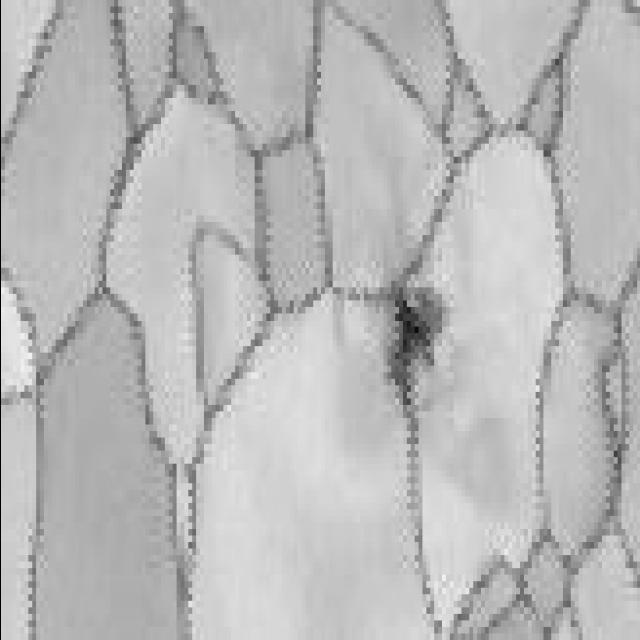good_void: (384, 265, 448, 418)
